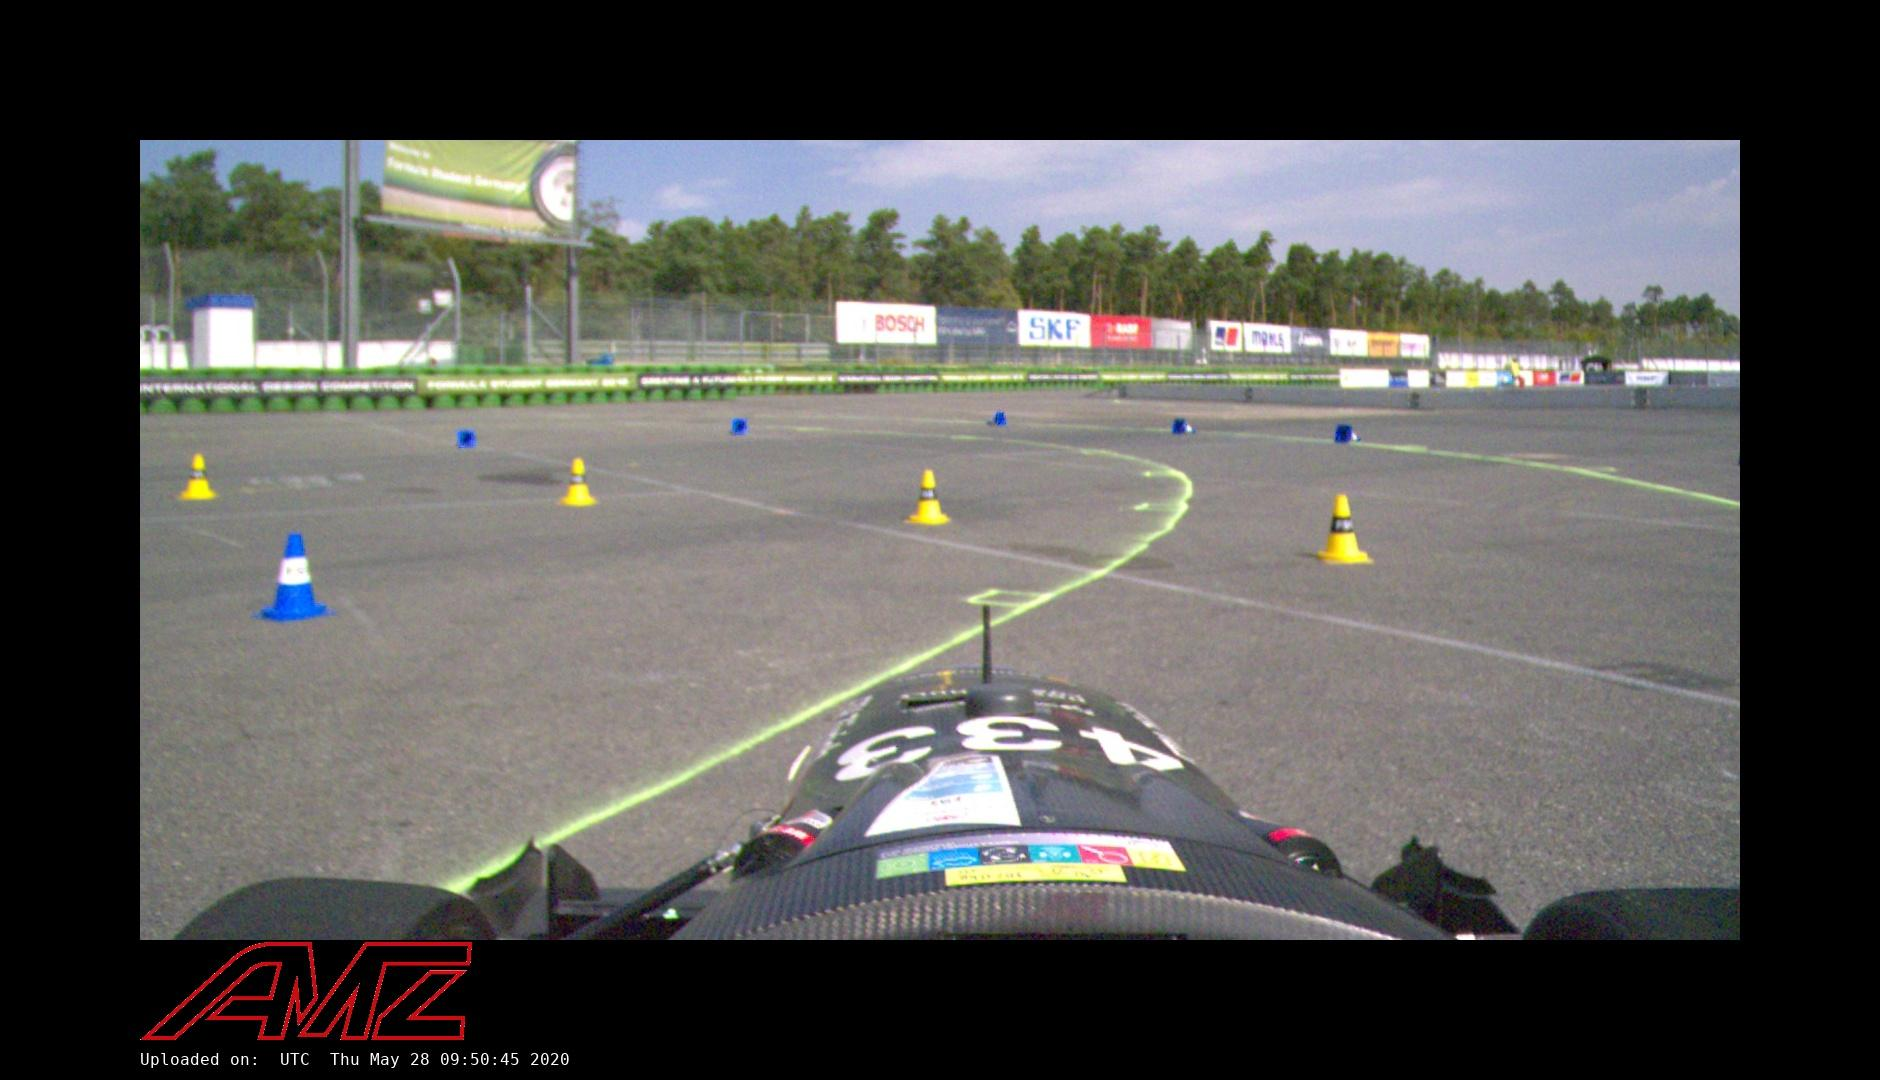blue_cone: (257, 534, 336, 620), (1333, 424, 1362, 443), (457, 428, 476, 448), (1171, 417, 1194, 434), (986, 410, 1007, 428), (731, 417, 749, 435)
yellow_cone: (1316, 493, 1374, 565), (903, 469, 952, 524), (557, 456, 599, 506), (177, 453, 220, 499)
